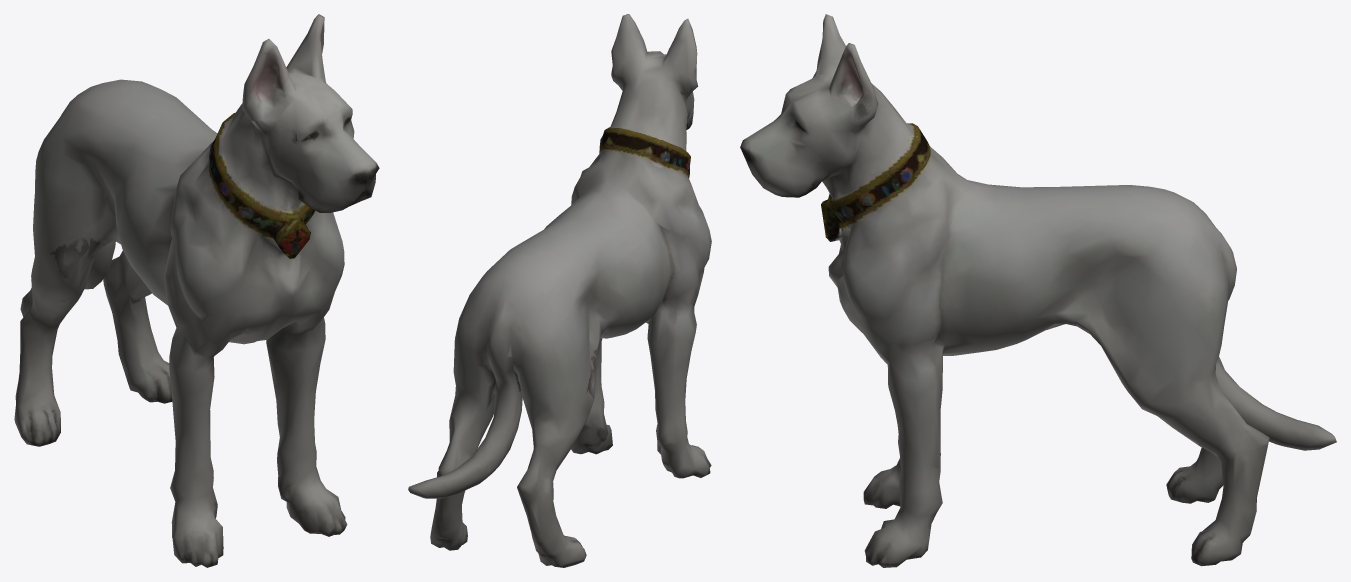
The model's file is detail_13_lo2.glb.
3 views of the same model, side by side, from view 1: azimuth 30°, elevation 25°; view 2: azimuth 150°, elevation 25°; view 3: azimuth 270°, elevation 25° (orthographic). The views are drawn at different scales.
Parts seen in each view (by area): view 1: Mesh_0.001; view 2: Mesh_0.001; view 3: Mesh_0.001.
Boxes of the visible parts, x1,y1,x2,y2 form: Mesh_0.001: (14,14,379,567); Mesh_0.001: (408,14,711,567); Mesh_0.001: (740,14,1336,567).
Bounding box in the file's own units: 0.3237 × 0.9427 × 1.01.
Materials: 1 (1 with a texture image).
